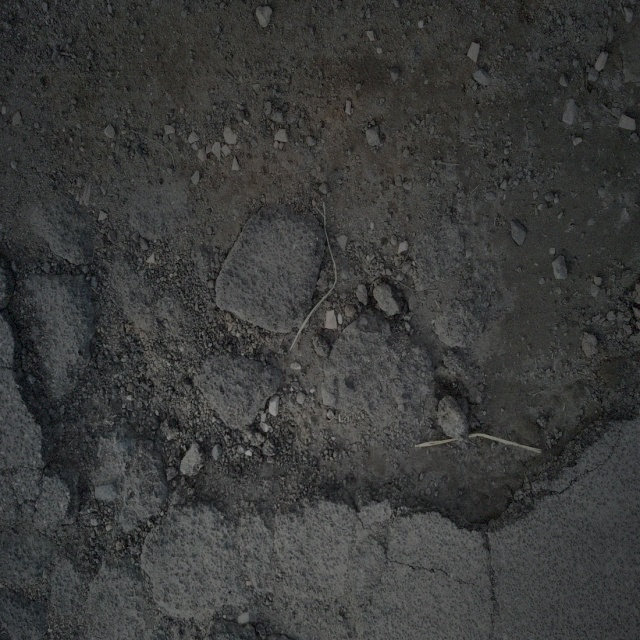pothole: (313, 276, 628, 571)
